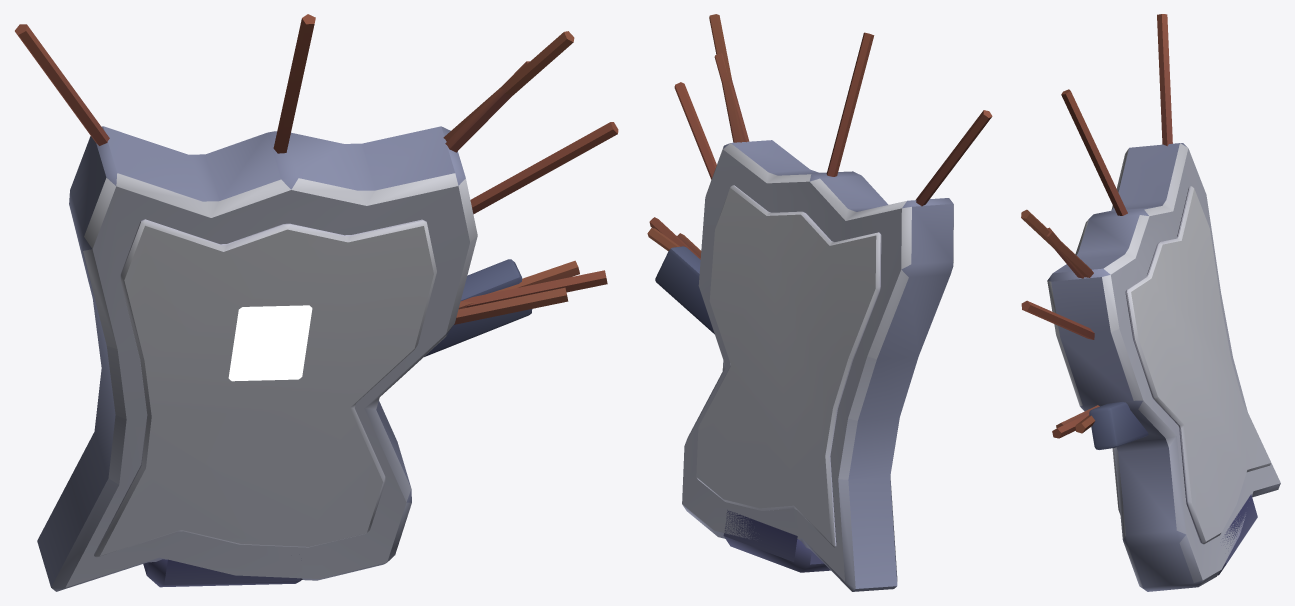
Rendered from hub_ruin_debris_d.glb.
3 views of the same model, side by side, from view 1: azimuth 30°, elevation 25°; view 2: azimuth 150°, elevation 25°; view 3: azimuth 270°, elevation 25° (orthographic). The views are drawn at different scales.
Parts seen in each view (by area): view 1: hub_ruin_debris_d; view 2: hub_ruin_debris_d; view 3: hub_ruin_debris_d.
Boxes of the visible parts, x1,y1,x2,y2 form: hub_ruin_debris_d: (15,14,618,591); hub_ruin_debris_d: (647,14,992,591); hub_ruin_debris_d: (1021,14,1280,591).
Size of the model in its own units: 3.19 by 3.73 by 1.88.
